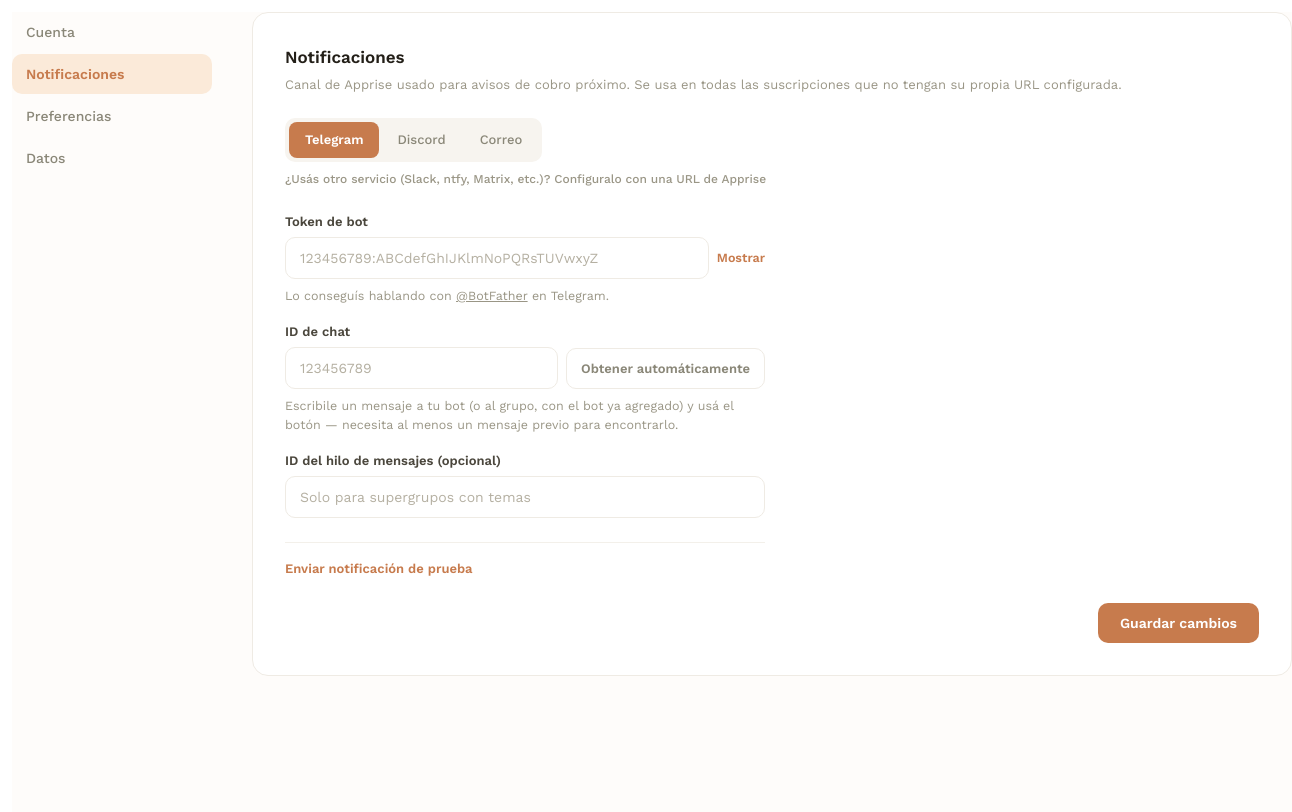
Test: preferencias tab › shows the automatic exchange rate controls only in auto mode
What coordinates should you click on to do the following:
click the button "Preferencias"
I would click on:
 (112, 116)
Its box is [12,96,212,136].
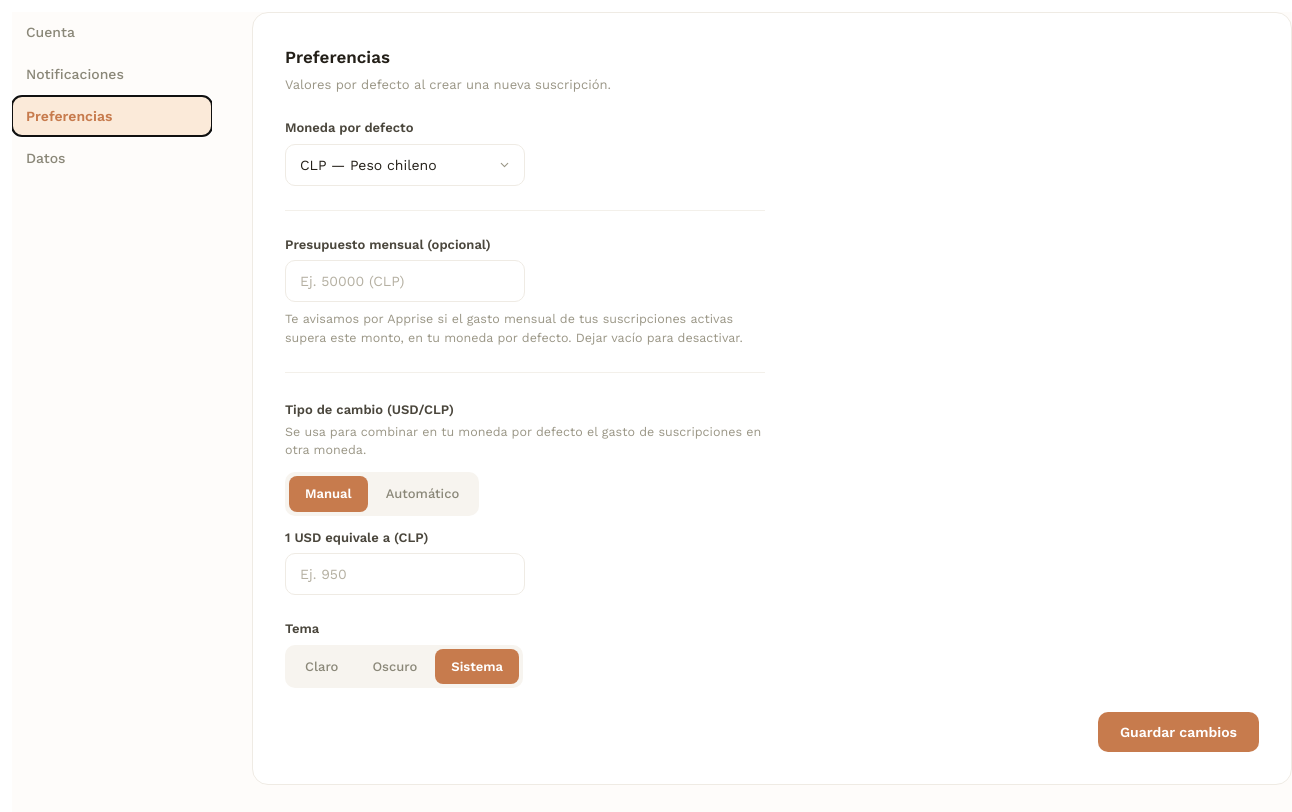
Expected: the button "Actualizar ahora" is not shown
What coordinates should you click on to do the following:
click the button "Automático"
I would click on:
 (422, 494)
Its box is [370,476,475,512].
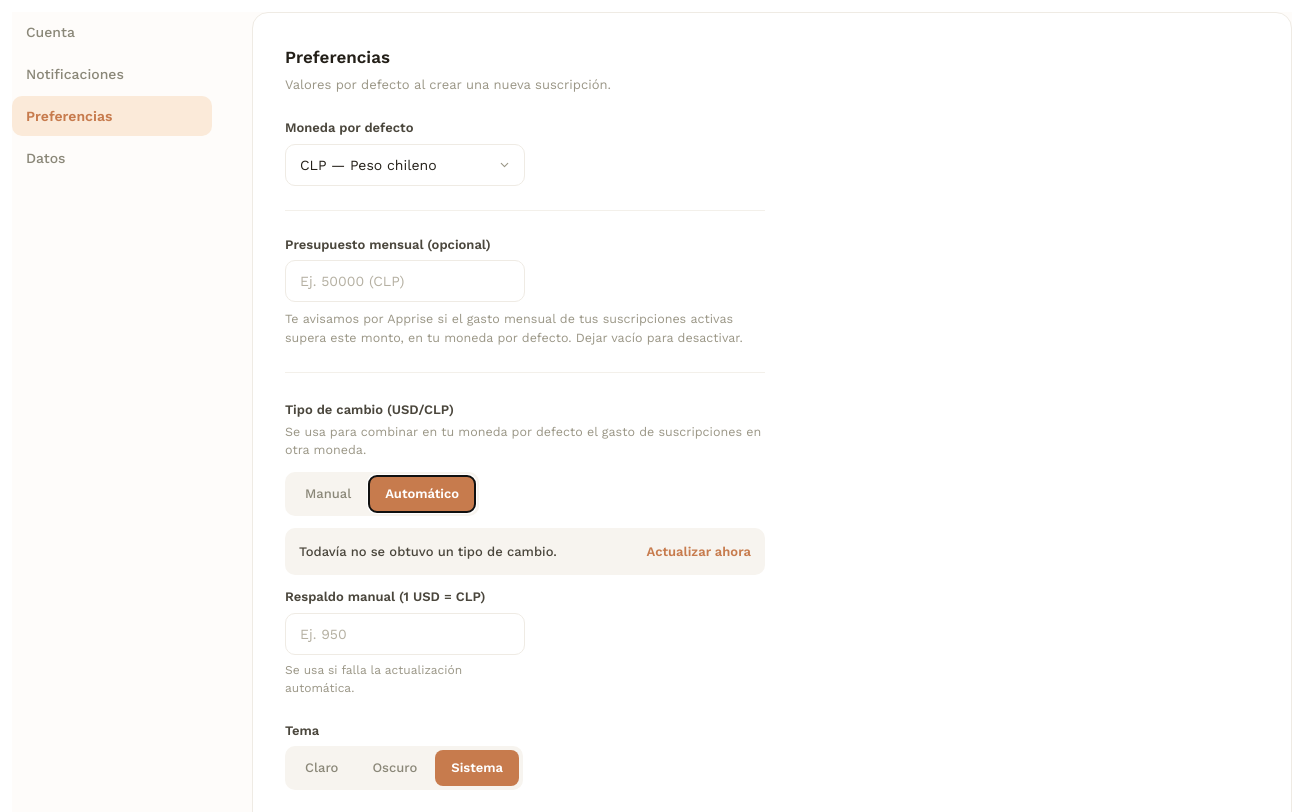
Result: the button "Actualizar ahora" is shown at [647,542,751,561]
